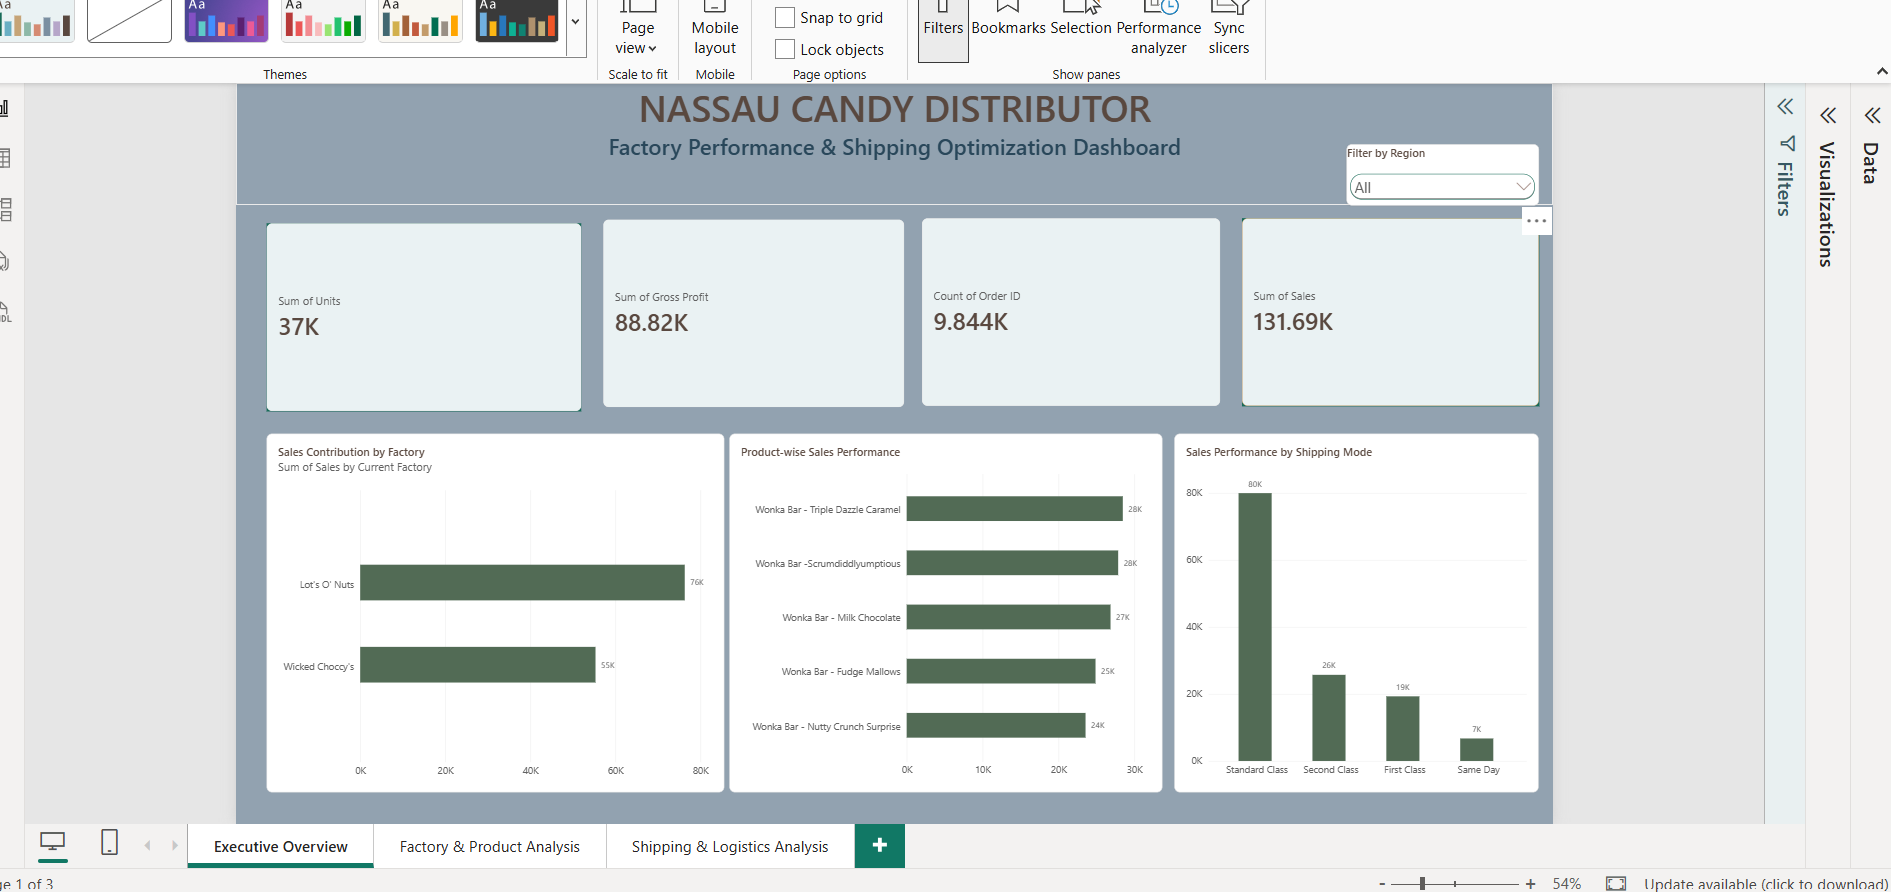

This screenshot's page, from the dashboard's own definition file:
{"tool":"powerbi","page":{"name":"Executive Overview","canvas":[1920,1080],"ordinal":0},"visuals":[{"type":"cardVisual","fields":{"Data":["Sum(Nassau Candy Distributor.Sales)"]},"box":[1466.3,197.6,433.5,274.1],"z":0},{"type":"cardVisual","fields":{"Data":["CountNonNull(Nassau Candy Distributor.Order ID)"]},"box":[1000.9,197.6,435.6,274.1],"z":1000},{"type":"cardVisual","fields":{"Data":["Sum(Nassau Candy Distributor.Units)"]},"box":[44.6,204,459,274.1],"z":2000},{"type":"cardVisual","fields":{"Data":["Sum(Nassau Candy Distributor.Gross Profit)"]},"box":[535.5,199.8,439.9,274.1],"z":3000},{"type":"clusteredColumnChart","title":"Sales Performance by Shipping Mode","fields":{"Category":["Nassau Candy Distributor.Ship Mode"],"Y":["Sum(Nassau Candy Distributor.Sales)"]},"box":[1368.5,512.1,531.3,522.8],"z":4000},{"type":"clusteredBarChart","title":"Product-wise Sales Performance","fields":{"Category":["Nassau Candy Distributor.Product Name"],"Y":["Sum(Nassau Candy Distributor.Sales)"]},"box":[720.4,512.1,631.1,522.8],"z":5000},{"type":"textbox","box":[0,0,1921,178.5],"z":6000},{"type":"clusteredBarChart","title":"Sales Contribution by Factory","fields":{"Category":["Nassau Candy Distributor.Current Factory"],"Y":["Sum(Nassau Candy Distributor.Sales)"]},"box":[44.6,512.1,667.3,522.8],"z":7000},{"type":"slicer","title":"Filter by Region","fields":{"Values":["Nassau Candy Distributor.Region"]},"box":[1619.3,89.3,280.5,89.3],"z":7002}]}

Visuals, with their boxes on the page's 1920x1080 design canvas (x1, y1, x2, y2). These are canvas units, not pixel positions in the 1891x892 screenshot, which may show the page scaled, cropped or inside an application window:
cardVisual - Sum(Nassau Candy Distributor.Sales): bbox=(1466, 198, 1900, 472)
cardVisual - CountNonNull(Nassau Candy Distributor.Order ID): bbox=(1001, 198, 1436, 472)
cardVisual - Sum(Nassau Candy Distributor.Units): bbox=(45, 204, 504, 478)
cardVisual - Sum(Nassau Candy Distributor.Gross Profit): bbox=(536, 200, 975, 474)
"Sales Performance by Shipping Mode" clusteredColumnChart: bbox=(1368, 512, 1900, 1035)
"Product-wise Sales Performance" clusteredBarChart: bbox=(720, 512, 1352, 1035)
textbox: bbox=(0, 0, 1921, 178)
"Sales Contribution by Factory" clusteredBarChart: bbox=(45, 512, 712, 1035)
"Filter by Region" slicer: bbox=(1619, 89, 1900, 179)
